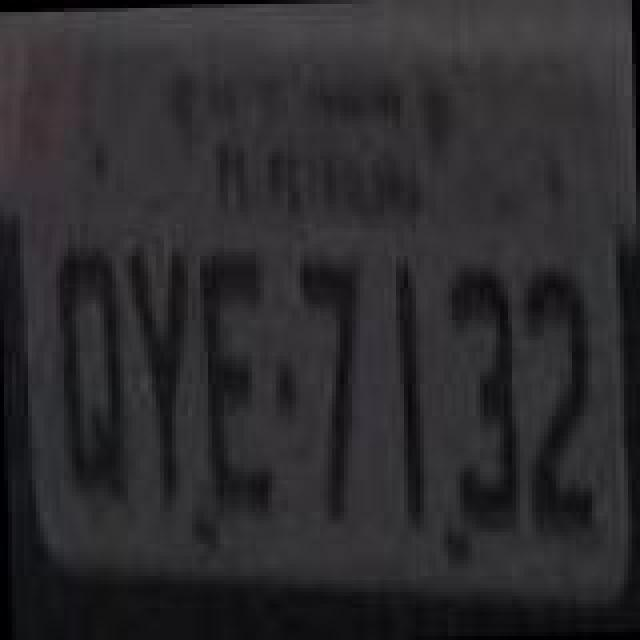1: (394, 258, 426, 534)
2: (516, 258, 592, 542)
3: (444, 260, 520, 544)
7: (294, 252, 366, 532)
E: (196, 248, 272, 528)
Q: (52, 240, 128, 512)
Y: (128, 240, 196, 508)
